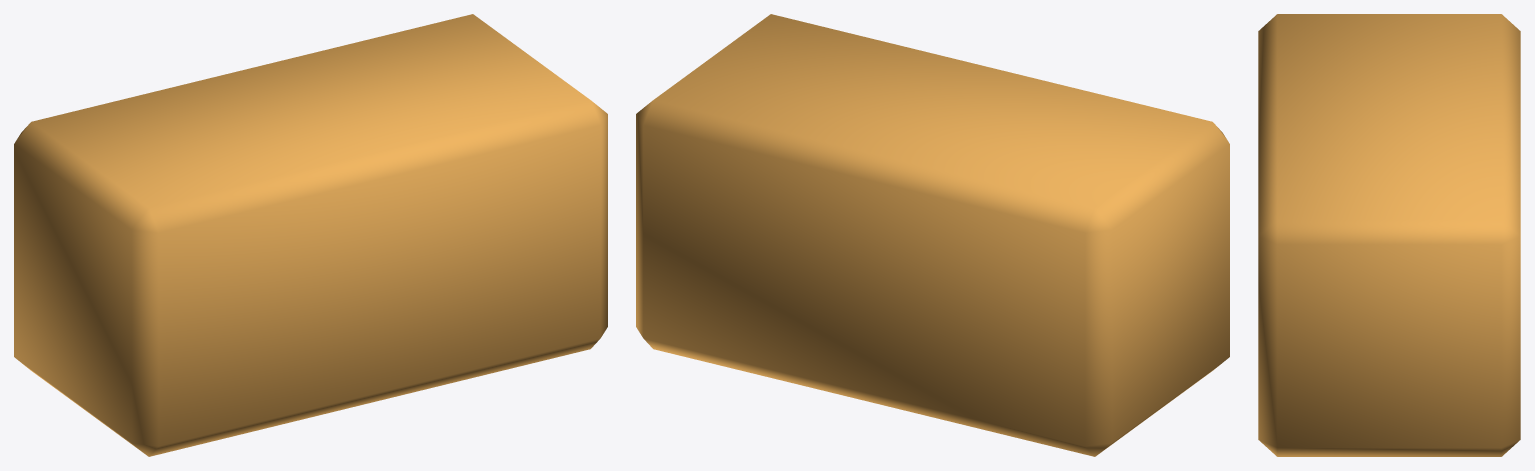
3 renders of one model, left to right at view 1: azimuth 30°, elevation 25°; view 2: azimuth 150°, elevation 25°; view 3: azimuth 270°, elevation 25°, orthographic. The views are drawn at different scales.
Visible parts, largest first — view 1: Cube_03; view 2: Cube_03; view 3: Cube_03.
Part boxes in pixels (x1,y1,x2,y2): Cube_03: (14, 14, 607, 456); Cube_03: (636, 14, 1229, 456); Cube_03: (1258, 14, 1520, 456).
Bounding box in the file's own units: 416 × 208 × 208.
